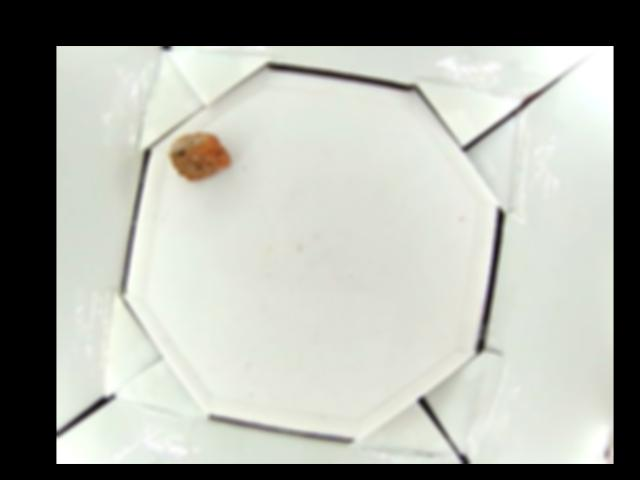Brisk: (168, 131, 233, 180)
